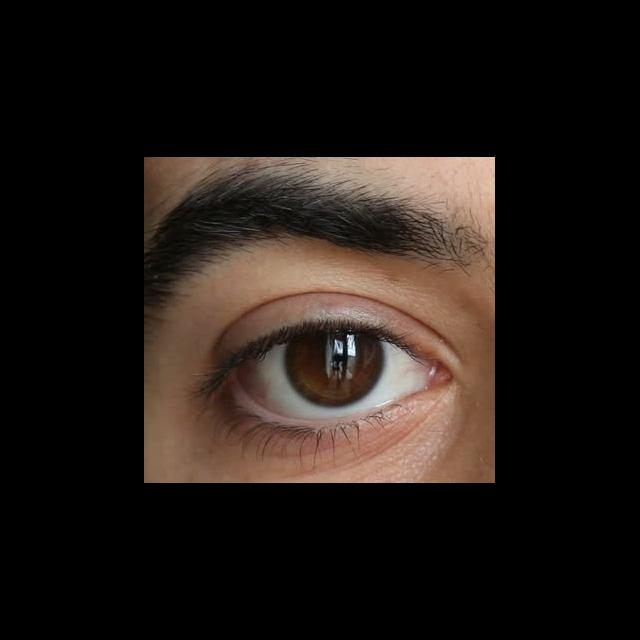eye: (234, 327, 433, 423)
iris: (285, 331, 386, 407)
